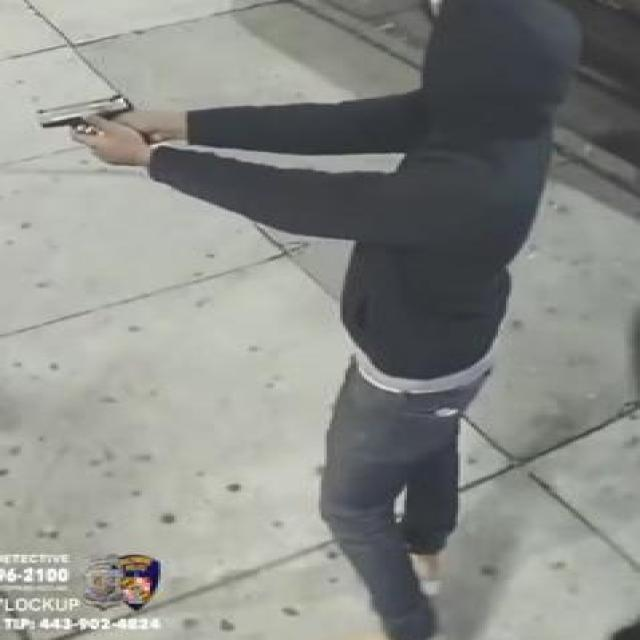Gun: (26, 83, 138, 165)
